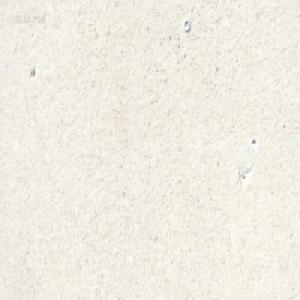Washer: (182, 17, 190, 32)
